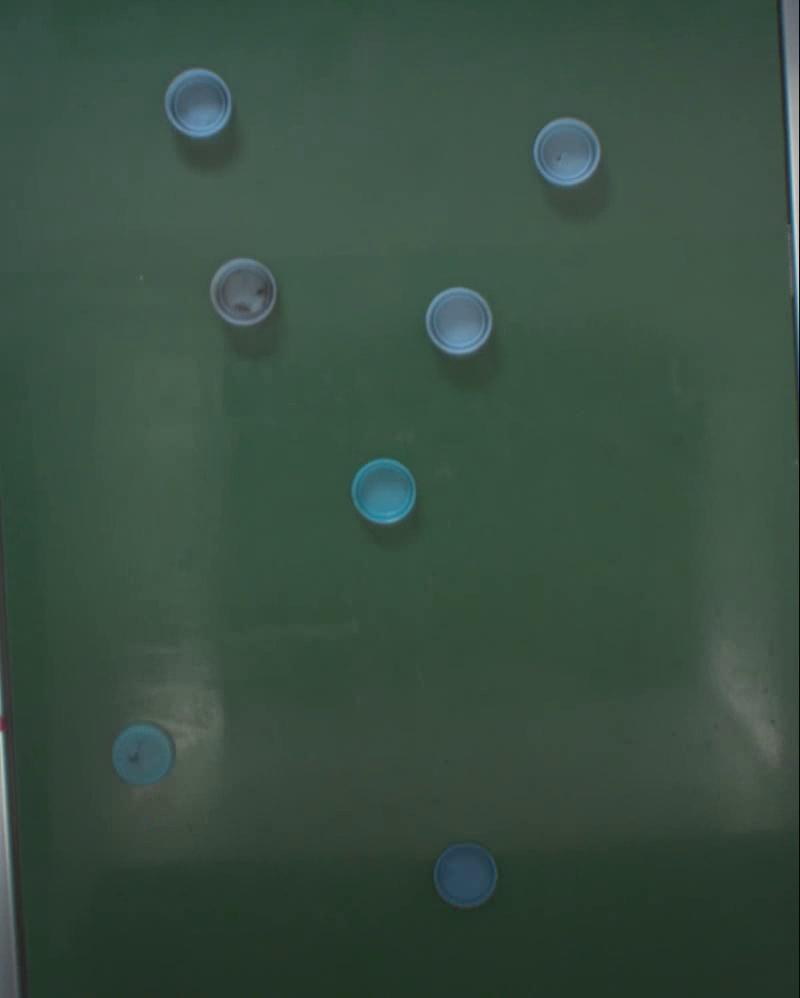light_blue: (164, 68, 233, 139), (208, 258, 276, 328), (425, 288, 492, 357), (534, 117, 600, 186), (432, 842, 499, 909), (350, 459, 416, 525), (112, 726, 174, 788)
